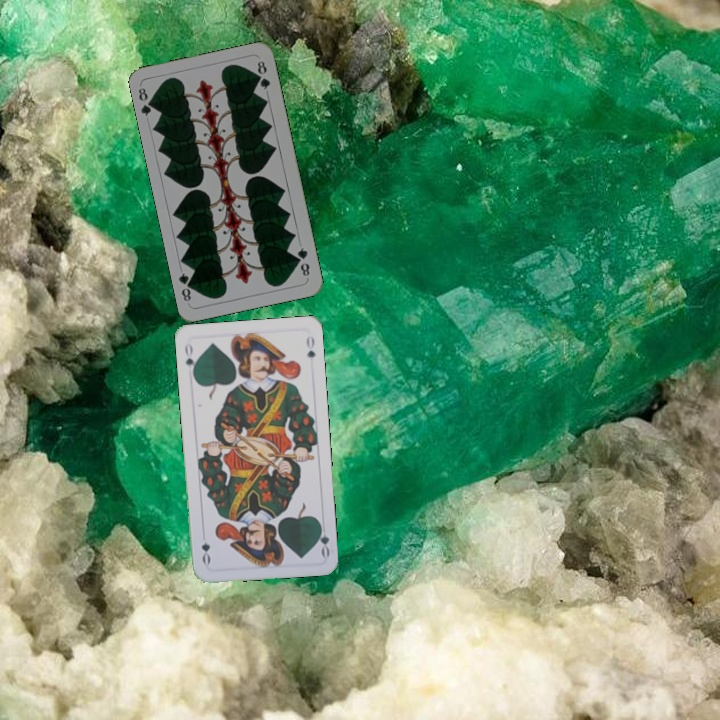G8: (134, 84, 158, 119), (293, 243, 312, 279)
GO: (313, 519, 332, 559), (181, 340, 199, 379)
